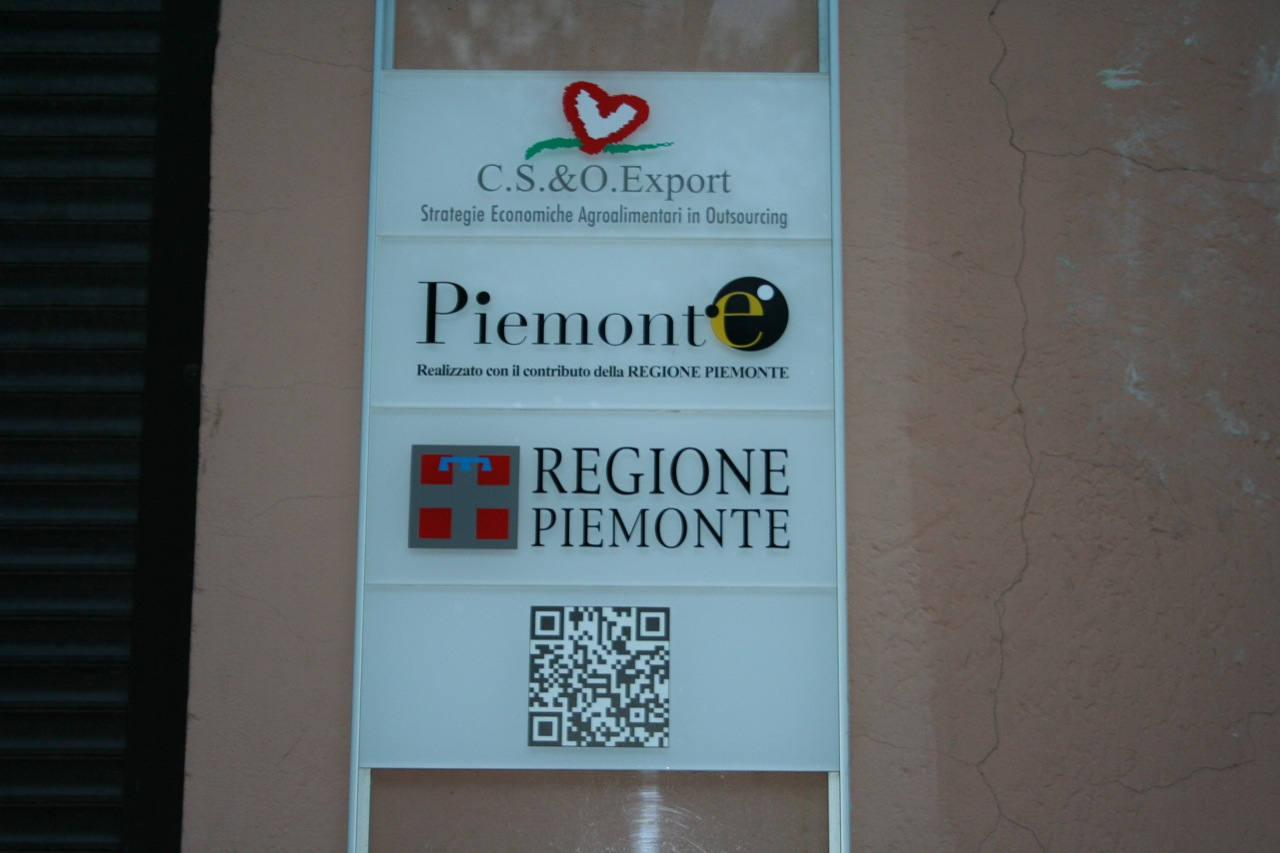QR-CODE: (528, 605, 669, 747)
